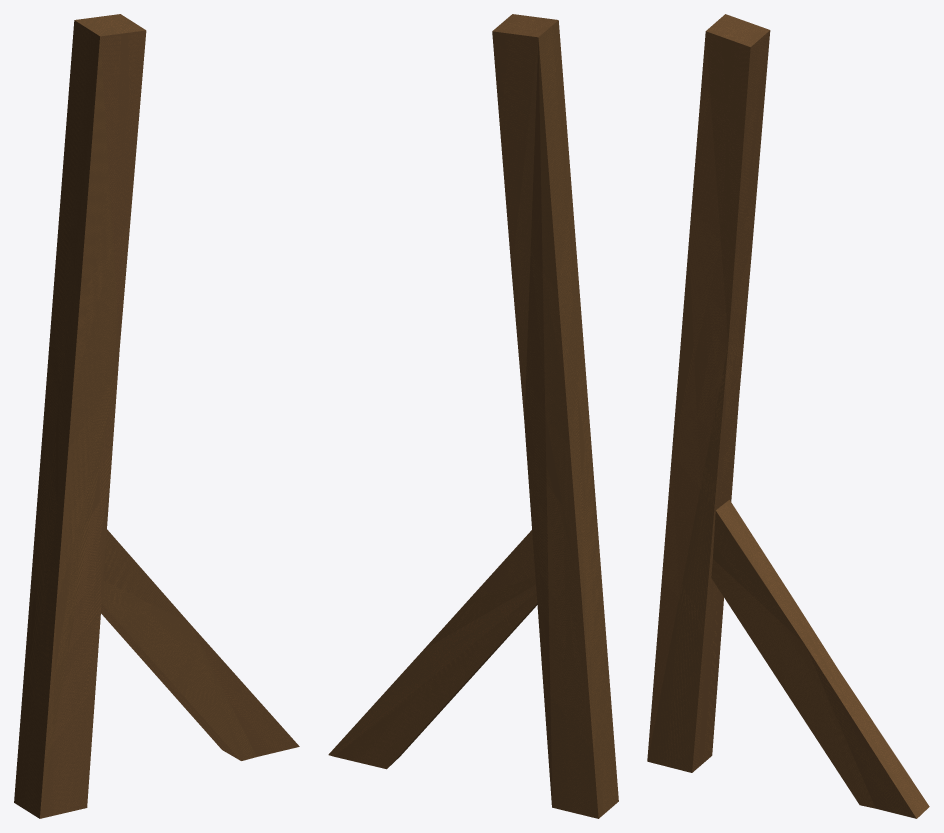
The model's file is Mine_Support_Timber_01.fbx.
3 views of the same model, side by side, from view 1: azimuth 30°, elevation 25°; view 2: azimuth 150°, elevation 25°; view 3: azimuth 330°, elevation 25° (orthographic). The views are drawn at different scales.
Parts seen in each view (by area): view 1: Model; view 2: Model; view 3: Model.
Part boxes in pixels (x1,y1,x2,y2): Model: [14, 14, 299, 818]; Model: [328, 14, 618, 818]; Model: [647, 14, 929, 818].
Bounding box in the file's own units: 395 × 1067 × 65.33.
